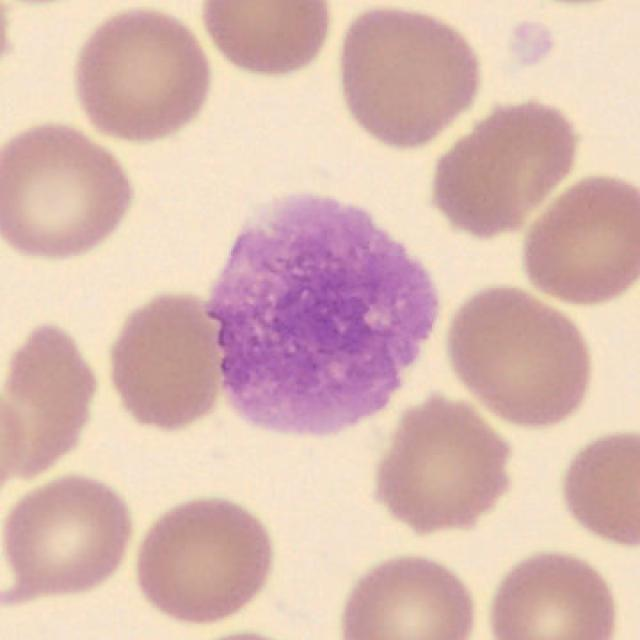Restos celulares: (208, 194, 441, 439)
